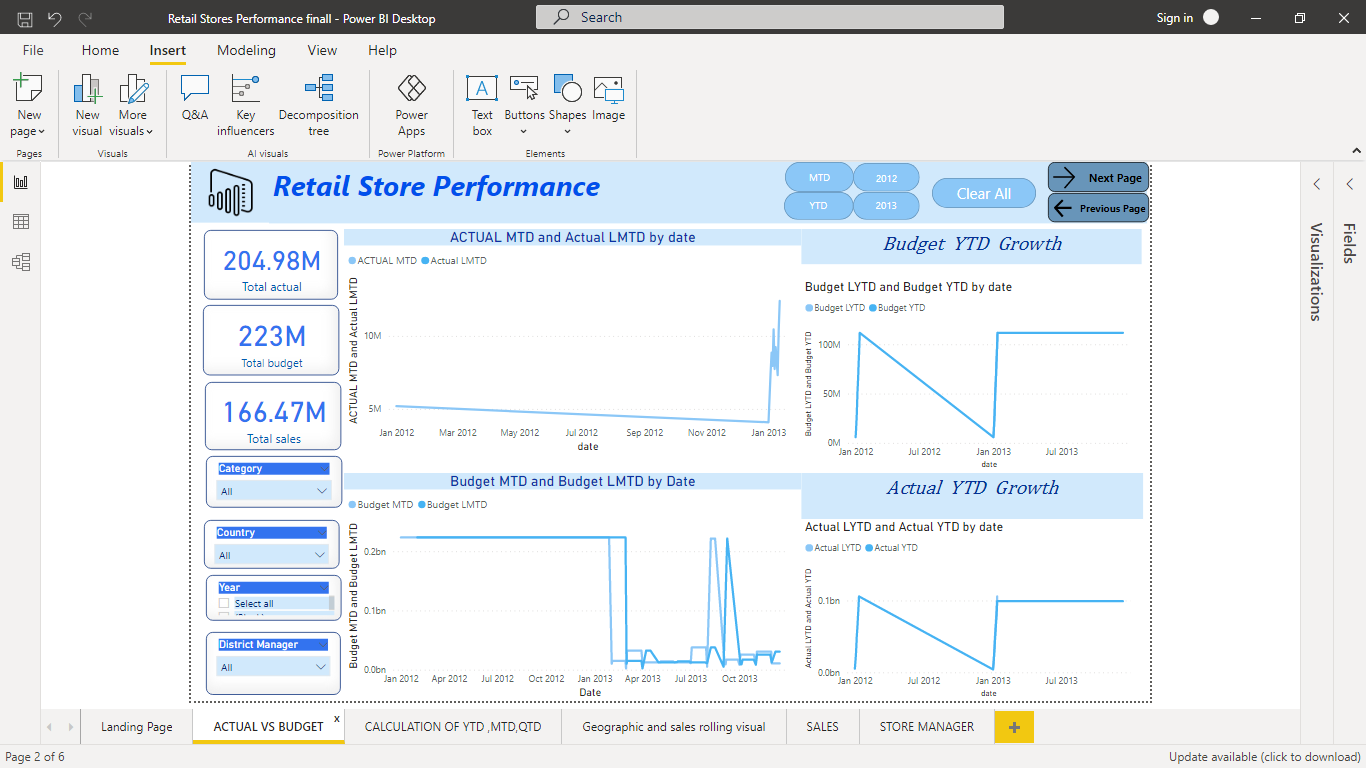

What the dashboard file says about the page in this screenshot:
{"tool":"powerbi","page":{"name":"ACTUAL VS BUDGET","canvas":[1280,720],"ordinal":1},"visuals":[{"type":"image","box":[0,0,105.7,80.8],"z":0},{"type":"textbox","box":[104.4,0,1173.1,82],"z":1000},{"type":"card","fields":{"Values":["Earnings actual.Total actual"]},"box":[17.8,90.3,179.4,92.7],"z":2000},{"type":"card","fields":{"Values":["Earnings Budget.Total budget"]},"box":[16.6,191.3,181.8,93.9],"z":3000},{"type":"card","fields":{"Values":["FreshFoodSales.total sales"]},"box":[19,293.5,181.8,91.5],"z":4000},{"type":"slicer","fields":{"Values":["category master.Category"]},"box":[20.2,393.3,181.8,68.9],"z":5000},{"type":"slicer","fields":{"Values":["StoreGeoLocations.Country"]},"box":[18,477.6,181.2,64.8],"z":6000},{"type":"slicer","fields":{"Values":["Stores.District Manager Name"]},"box":[20.4,627.6,180,84],"z":7000},{"type":"lineChart","fields":{"Y":["Earnings Budget.Budget LYTD","Earnings Budget.Budget YTD"],"Category":["Earnings Budget.date"]},"box":[815.2,156.6,457.3,258.5],"z":8000},{"type":"textbox","box":[815.2,415.1,457.3,62.1],"z":9000},{"type":"lineChart","fields":{"Y":["Earnings actual.Actual LYTD","Earnings actual.Actual YTD"],"Category":["Earnings actual.date"]},"box":[815.2,477.2,457.3,243.6],"z":10000},{"type":"textbox","box":[815.2,89.5,454.8,47.2],"z":11000},{"type":"shape","box":[989.7,21.4,139,40.4],"z":12000},{"type":"actionButton","title":"Next  Page","box":[1144.2,0,135.4,40.4],"z":13000},{"type":"slicer","fields":{"Values":["Master Calender.Date.Variation.Date Hierarchy.Year"]},"box":[20.4,552,181.2,61.2],"z":14000},{"type":"shape","box":[884.4,1.6,89.4,38.3],"z":15000},{"type":"actionButton","box":[1144.2,41.6,135.4,39.2],"z":16000},{"type":"shape","box":[884.4,39.9,89.4,36.7],"z":17000},{"type":"lineChart","fields":{"Y":["Earnings actual.ACTUAL MTD","Earnings actual.Actual LMTD"],"Category":["Earnings actual.date"]},"box":[203.8,89.5,611.4,303.2],"z":18000},{"type":"lineChart","fields":{"Category":["LinkTable.Date"],"Y":["Earnings Budget.Budget MTD","Earnings Budget.Budget LMTD"]},"box":[203.8,415.1,611.4,305.7],"z":19000},{"type":"shape","box":[792.9,0,92,39.8],"z":20000},{"type":"shape","box":[791.8,39.9,92.6,36.7],"z":21000}]}

Visuals, with their boxes on the page's 1280x720 design canvas (x1, y1, x2, y2). These are canvas units, not pixel positions in the 1366x768 screenshot, which may show the page scaled, cropped or inside an application window:
image: BBox(0, 0, 106, 81)
textbox: BBox(104, 0, 1278, 82)
card - Earnings actual.Total actual: BBox(18, 90, 197, 183)
card - Earnings Budget.Total budget: BBox(17, 191, 198, 285)
card - FreshFoodSales.total sales: BBox(19, 294, 201, 385)
slicer - category master.Category: BBox(20, 393, 202, 462)
slicer - StoreGeoLocations.Country: BBox(18, 478, 199, 542)
slicer - Stores.District Manager Name: BBox(20, 628, 200, 712)
lineChart - Earnings Budget.Budget LYTD x Earnings Budget.Budget YTD: BBox(815, 157, 1272, 415)
textbox: BBox(815, 415, 1272, 477)
lineChart - Earnings actual.Actual LYTD x Earnings actual.Actual YTD: BBox(815, 477, 1272, 721)
textbox: BBox(815, 90, 1270, 137)
shape: BBox(990, 21, 1129, 62)
"Next  Page" actionButton: BBox(1144, 0, 1280, 40)
slicer - Master Calender.Date.Variation.Date Hierarchy.Year: BBox(20, 552, 202, 613)
shape: BBox(884, 2, 974, 40)
actionButton: BBox(1144, 42, 1280, 81)
shape: BBox(884, 40, 974, 77)
lineChart - Earnings actual.ACTUAL MTD x Earnings actual.Actual LMTD: BBox(204, 90, 815, 393)
lineChart - LinkTable.Date x Earnings Budget.Budget MTD: BBox(204, 415, 815, 721)
shape: BBox(793, 0, 885, 40)
shape: BBox(792, 40, 884, 77)
